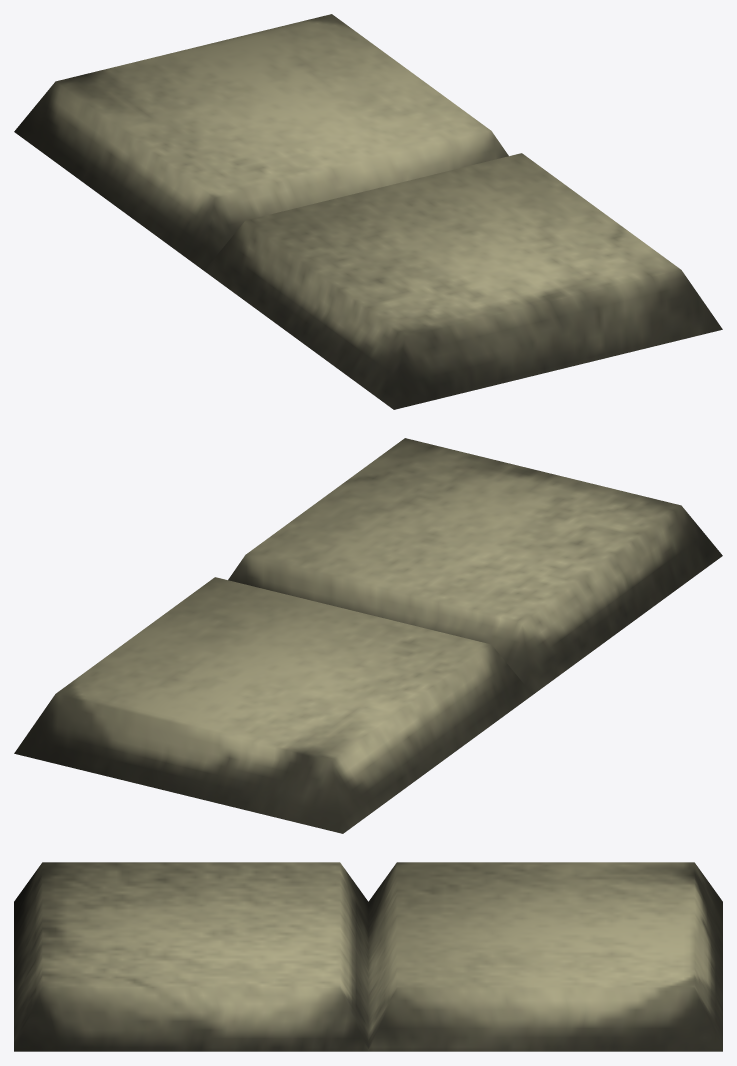
The model's file is 1x2blocks3.FBX.
3 renders of one model, top to bottom at view 1: azimuth 30°, elevation 25°; view 2: azimuth 150°, elevation 25°; view 3: azimuth 270°, elevation 25°, orthographic. The views are drawn at different scales.
Visible parts, largest first — view 1: Object022; view 2: Object022; view 3: Object022.
Part boxes in pixels (x1=…): Object022: x1=14, y1=14, x2=722, y2=409; Object022: x1=14, y1=438, x2=722, y2=833; Object022: x1=14, y1=862, x2=722, y2=1051.
Bounding box in the file's own units: 6.25 × 1 × 12.5.
